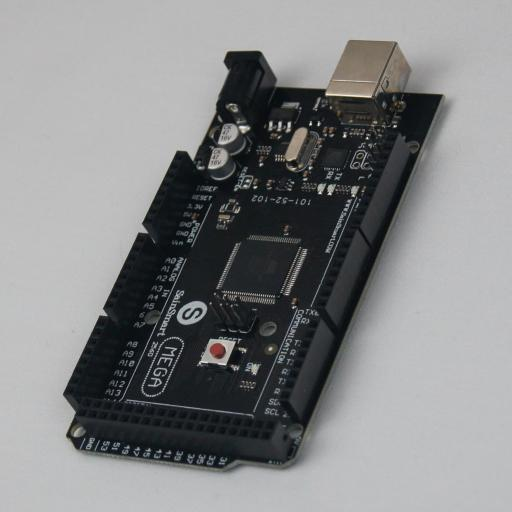Arduino Mega 2560 -Black-: (63, 40, 444, 472)
